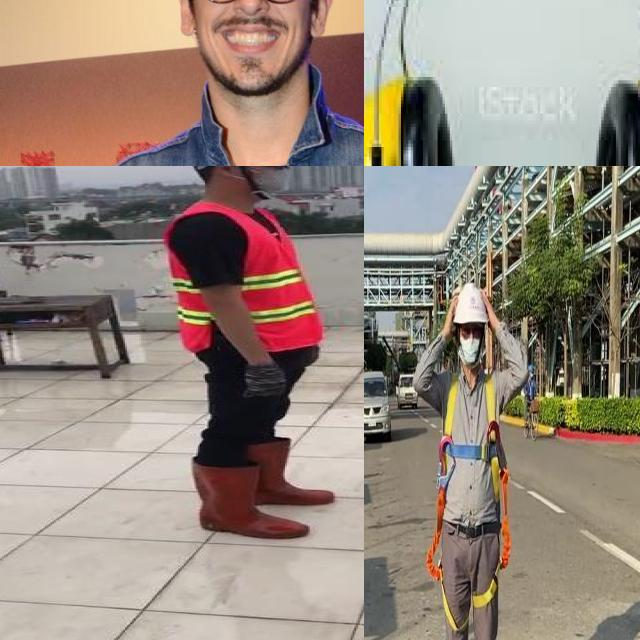Ear-protection: (364, 70, 457, 166)
Harness: (426, 375, 512, 632)
No_Ear-Protection: (301, 0, 338, 43), (172, 0, 200, 41)
boots: (186, 457, 312, 538), (251, 435, 333, 508)
face_mask: (241, 166, 294, 196)
glasses: (246, 166, 294, 172)
hand_glove: (239, 362, 290, 400)
person: (154, 166, 344, 546)
vest: (168, 203, 324, 351)
